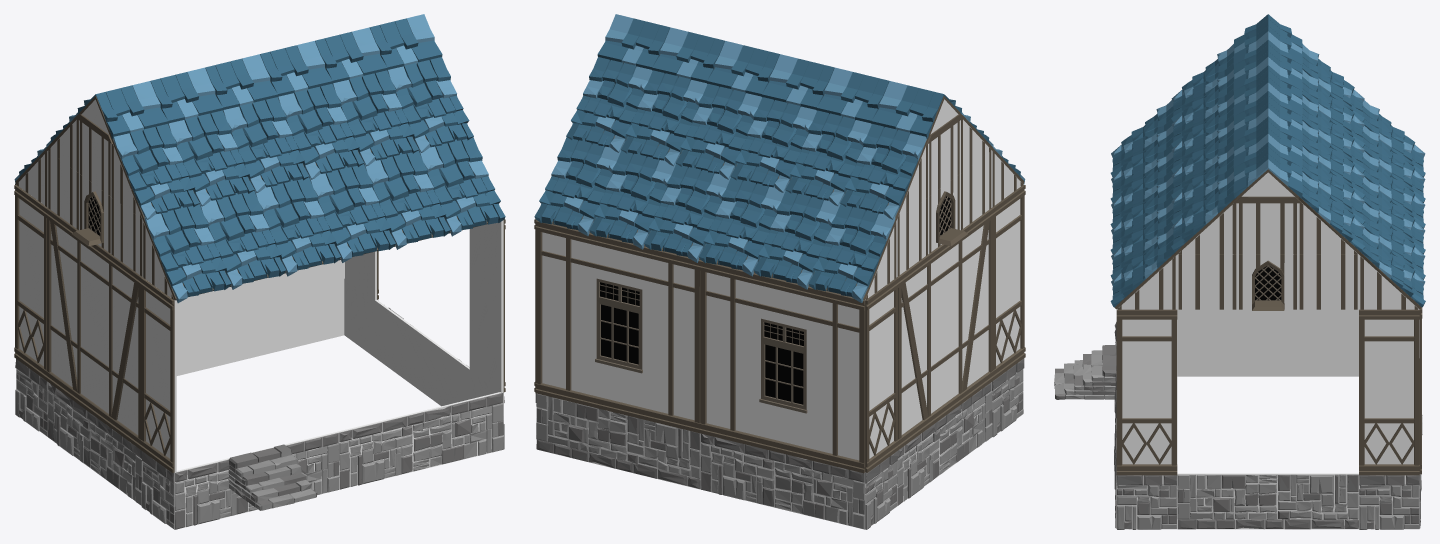
The model's file is House_01_parts.glb.
The picture shows the model from 3 angles, left to right: view 1: azimuth 30°, elevation 25°; view 2: azimuth 150°, elevation 25°; view 3: azimuth 270°, elevation 25°; orthographic projection. The views are drawn at different scales.
Parts seen in each view (by area): view 1: WALL_02_2, FOUNDATION_02_26, FOUNDATION_02_30, WALL_01_1.003, FOUNDATION_02_27, WALL_01_1.001, WALL_01_1.002, FOUNDATION_02_31, ROOF_base_1.017, FOUNDATION_02_28, ROOF_base_1.023, ROOF_base_1.012 (+30 smaller); view 2: WINDOW_03_1.001, WINDOW_03_1, WALL_02_2, FOUNDATION_02_30, FOUNDATION_02_29, WALL_01_1.002, WALL_01_1.003, FOUNDATION_02_28, ROOF_base_1.005, ROOF_base_1.011, ROOF_base_1.004, ROOF_base_1 (+25 smaller); view 3: FOUNDATION_02_31, WALL_01_1.001, FOUNDATION_02_28, WALL_01_1, ROOF_triangle_window_grid_9, ROOF_up_quad_3, ROOF_up_quad_2, FOUNDATION_03_2, FOUNDATION_03_3, ROOF_up_quad_4, STAIRS_01_6, WALL_02_2 (+42 smaller).
Boxes of the visible parts, x1,y1,x2,y2 form: WALL_02_2: (46,208,142,449); FOUNDATION_02_26: (338,392,503,489); FOUNDATION_02_30: (182,279,344,374); WALL_01_1.003: (140,277,176,472); FOUNDATION_02_27: (174,431,339,529); WALL_01_1.001: (469,219,505,392); WALL_01_1.002: (14,185,47,380); FOUNDATION_02_31: (375,300,469,406); ROOF_base_1.017: (143,204,231,303); FOUNDATION_02_28: (48,382,142,505); ROOF_base_1.023: (111,124,199,219); ROOF_base_1.012: (418,137,505,236); WINDOW_03_1.001: (699,260,865,473); WINDOW_03_1: (535,220,700,432); WALL_02_2: (897,208,993,449); FOUNDATION_02_30: (536,393,700,489); FOUNDATION_02_29: (701,433,865,529); WALL_01_1.002: (865,277,899,472); WALL_01_1.003: (992,184,1025,379); FOUNDATION_02_28: (897,382,992,506); ROOF_base_1.005: (808,204,896,302); ROOF_base_1.011: (840,124,928,219); ROOF_base_1.004: (753,191,840,289); ROOF_base_1: (534,137,621,236); FOUNDATION_02_31: (1177,473,1358,529); WALL_01_1.001: (1116,309,1177,475); FOUNDATION_02_28: (1177,321,1358,376); WALL_01_1: (1359,309,1419,475); ROOF_triangle_window_grid_9: (1238,254,1298,310); ROOF_up_quad_3: (1298,254,1358,309); ROOF_up_quad_2: (1177,254,1237,309); FOUNDATION_03_2: (1116,475,1177,529); FOUNDATION_03_3: (1359,475,1419,529); ROOF_up_quad_4: (1238,203,1298,254); STAIRS_01_6: (1054,344,1116,399); WALL_02_2: (1177,309,1358,321).
Bounding box in the file's own units: 6.56 × 6.59 × 6.13.
1 material, 1 textured.
